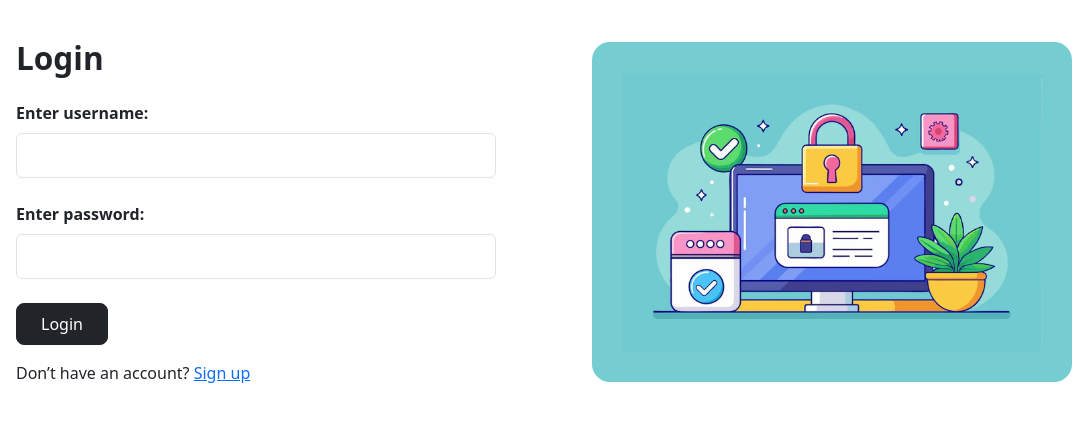
Test: Login Component › displays an error if login throws
In the field labelled "Enter username:": (256, 155) [16, 133, 496, 178], type "testuser"
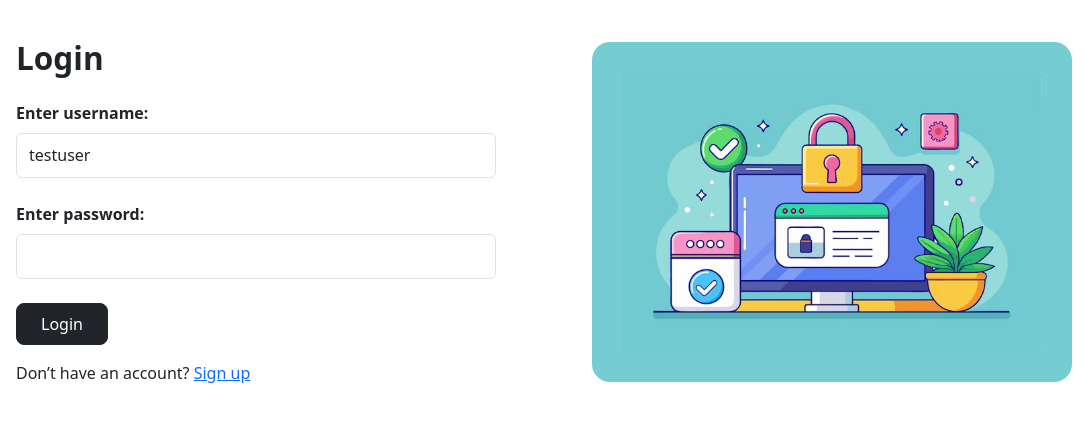
In the password field labelled "Enter password:": (256, 256) [16, 234, 496, 279], type "wrongpass"
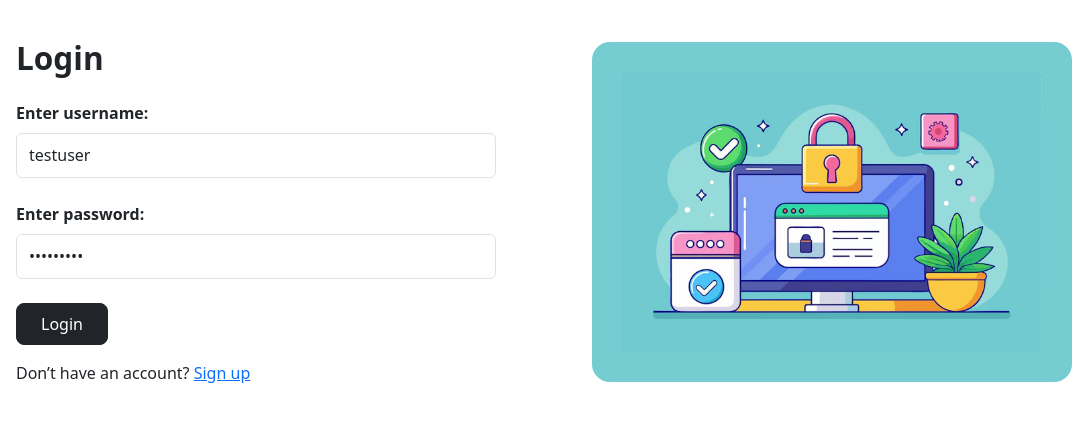
Click the button "Login": click(62, 324) [16, 303, 108, 345]
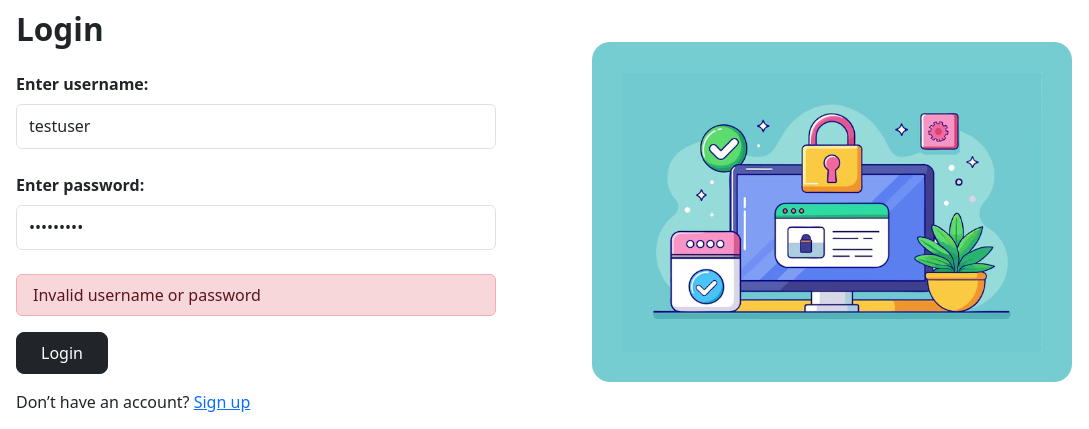
Now the text "Invalid username or password" is shown, box [16, 274, 496, 316]
